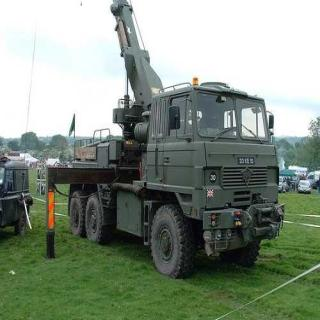Towing_truck: (44, 1, 286, 280)
